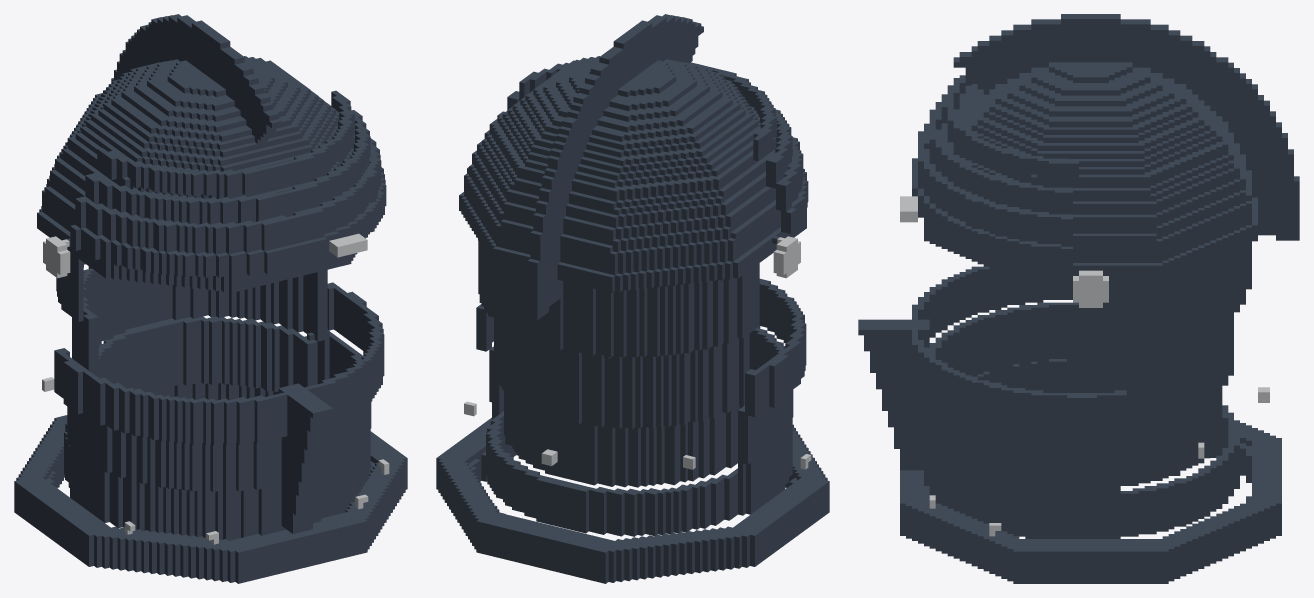
Rendered from hc_heavyhelm_close_raised.glb.
3 views of the same model, side by side, from view 1: azimuth 30°, elevation 25°; view 2: azimuth 150°, elevation 25°; view 3: azimuth 270°, elevation 25° (orthographic). The views are drawn at different scales.
Visible parts, largest first — view 1: hc_heavyhelm_close_raised:compound; view 2: hc_heavyhelm_close_raised:compound; view 3: hc_heavyhelm_close_raised:compound.
Boxes of the visible parts, x1,y1,x2,y2 form: hc_heavyhelm_close_raised:compound: [14, 14, 407, 583]; hc_heavyhelm_close_raised:compound: [436, 14, 829, 583]; hc_heavyhelm_close_raised:compound: [858, 14, 1299, 583].
Bounding box in the file's own units: 0.256 × 0.36 × 0.296.
